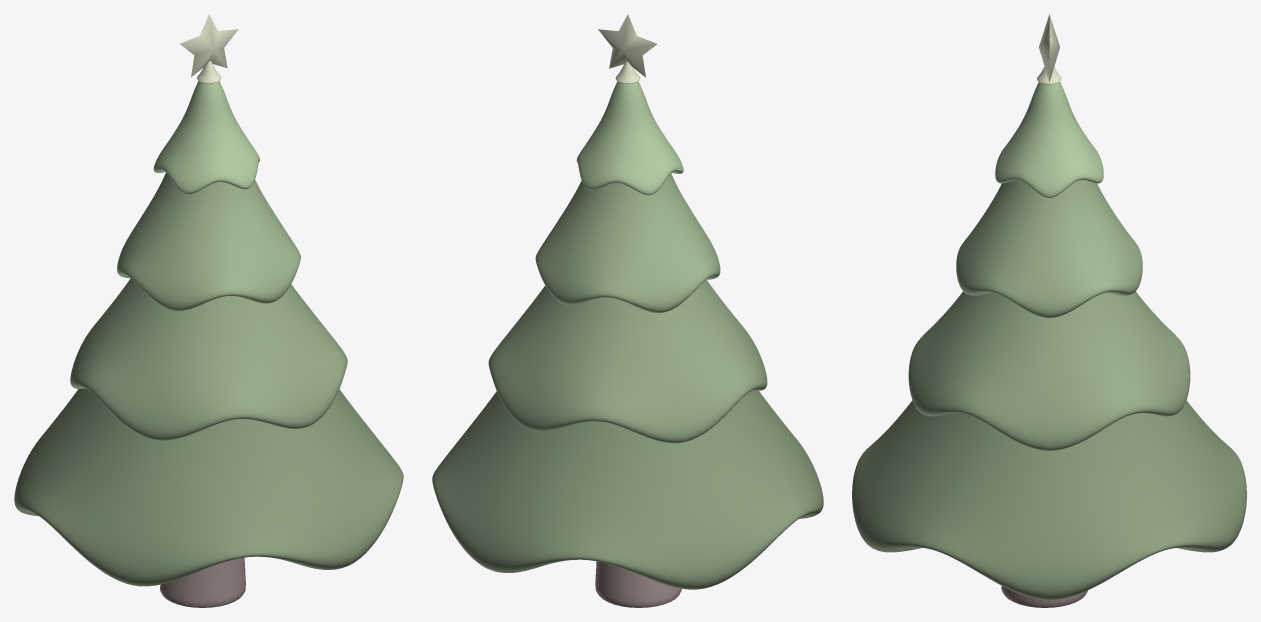
File: tree_testing4.glb
3 renders of one model, left to right at view 1: azimuth 30°, elevation 25°; view 2: azimuth 150°, elevation 25°; view 3: azimuth 270°, elevation 25°, orthographic.
Visible parts, largest first — view 1: Null.1, Cylinder.1, Extrude; view 2: Null.1, Cylinder.1, Extrude; view 3: Null.1, Extrude, Cylinder.1.
Boxes of the visible parts, left/top/right/bottom form: Null.1: left=14, top=81, right=403, bottom=586; Cylinder.1: left=160, top=557, right=245, bottom=607; Extrude: left=180, top=14, right=238, bottom=77; Null.1: left=432, top=81, right=823, bottom=589; Cylinder.1: left=595, top=561, right=681, bottom=607; Extrude: left=598, top=14, right=657, bottom=77; Null.1: left=852, top=82, right=1246, bottom=599; Extrude: left=1039, top=14, right=1059, bottom=82; Cylinder.1: left=1001, top=586, right=1087, bottom=607.
Bounding box in the file's own units: 5.4 × 8.79 × 5.41.
